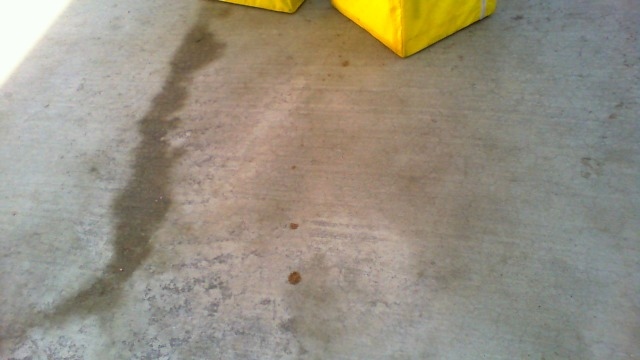cube: (329, 1, 497, 61), (200, 1, 307, 18)
